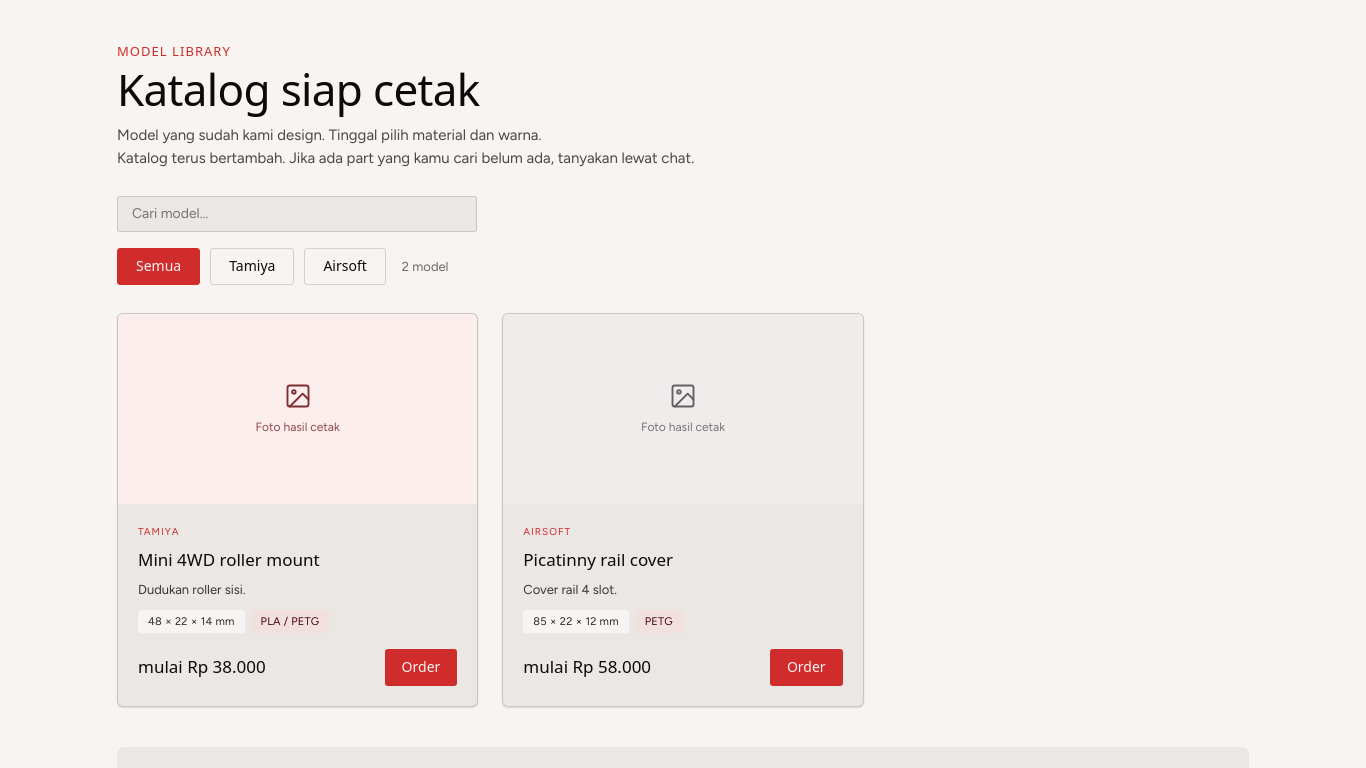
Scenario: Katalog screen › filters the grid to one category when its chip is clicked
Expected: the text "Mini 4WD roller mount" is shown, left=138, top=548, right=320, bottom=571
Expected: the text "Picatinny rail cover" is shown, left=523, top=548, right=673, bottom=571
Click the button "Airsoft".
click(345, 267)  # box left=304, top=248, right=386, bottom=285
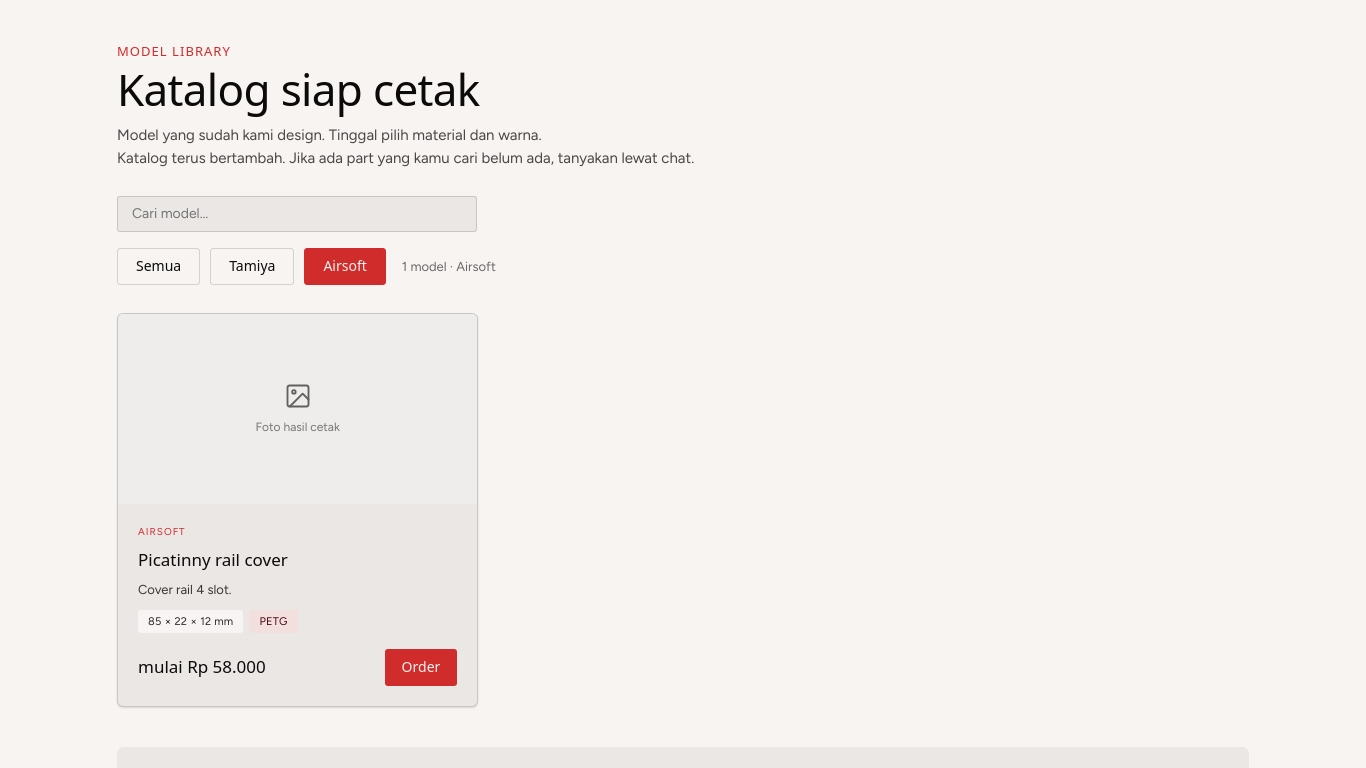
Expected: the text "Picatinny rail cover" is shown, left=138, top=548, right=288, bottom=571
Expected: the text "Mini 4WD roller mount" is gone
